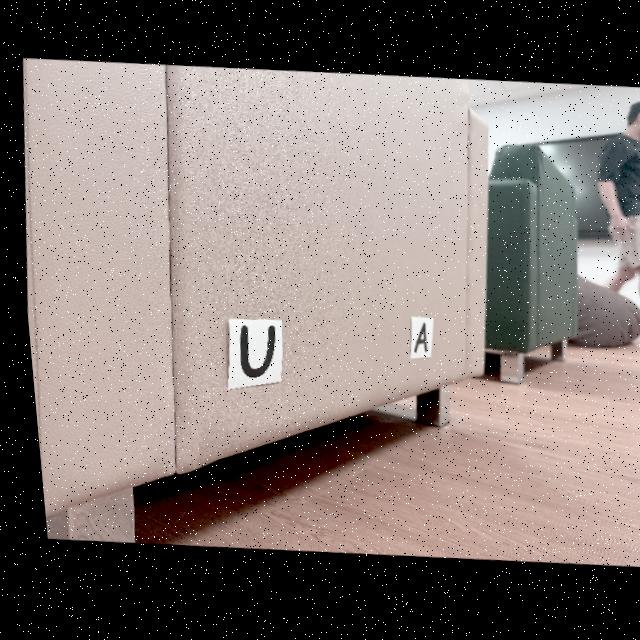A: (407, 323, 421, 354)
U: (232, 326, 268, 378)
